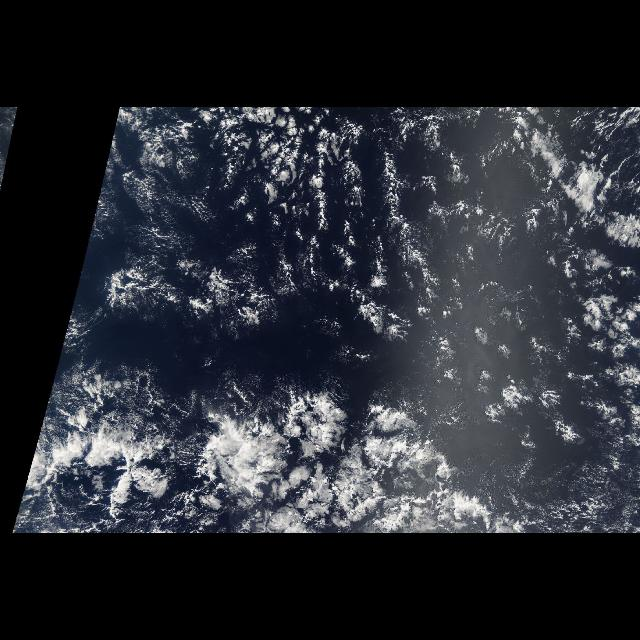Fish: (51, 380, 513, 530)
Flower: (130, 115, 632, 530)
